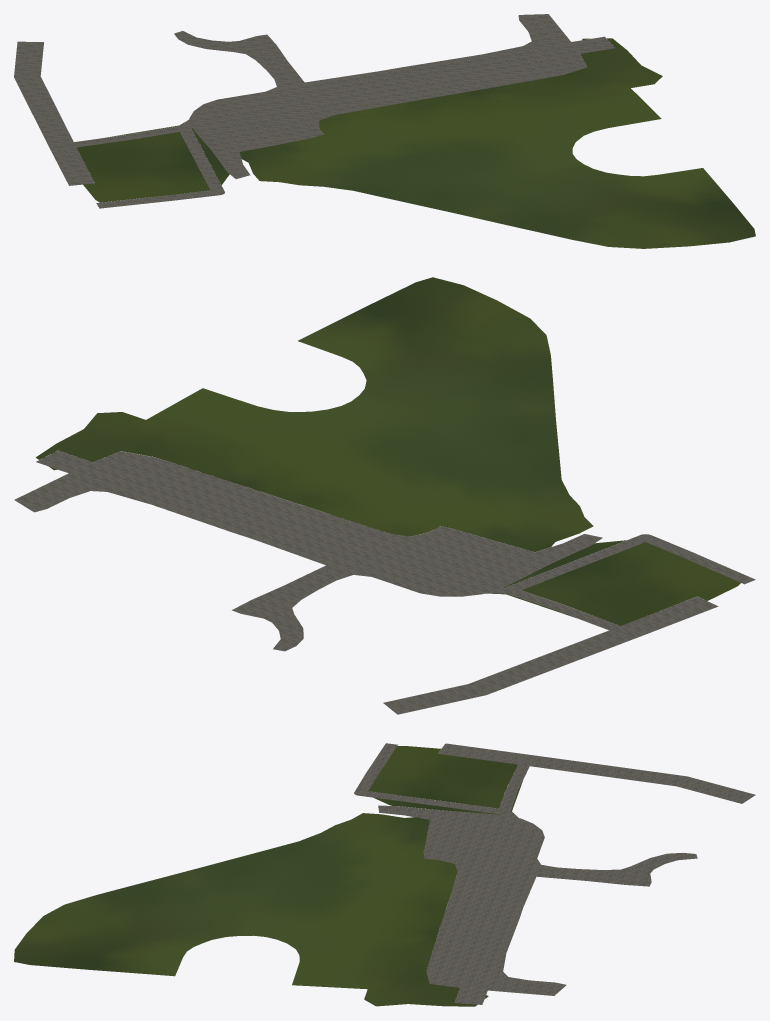
The picture shows the model from 3 angles, top to bottom: view 1: azimuth 30°, elevation 25°; view 2: azimuth 150°, elevation 25°; view 3: azimuth 270°, elevation 25°; orthographic projection. The views are drawn at different scales.
Visible parts, largest first — view 1: Empress Lawn turf, Dalhousie court granite; view 2: Empress Lawn turf, Dalhousie court granite; view 3: Empress Lawn turf, Dalhousie court granite.
Boxes of the visible parts, <box> form: Empress Lawn turf: <box>76,38,755,248</box>; Dalhousie court granite: <box>14,14,614,208</box>; Empress Lawn turf: <box>36,277,740,625</box>; Dalhousie court granite: <box>14,450,755,714</box>; Empress Lawn turf: <box>14,746,522,1006</box>; Dalhousie court granite: <box>354,743,755,1004</box>.
Size of the model in its own units: 136 by 0.1698 by 161.
2 materials, 2 textured.
